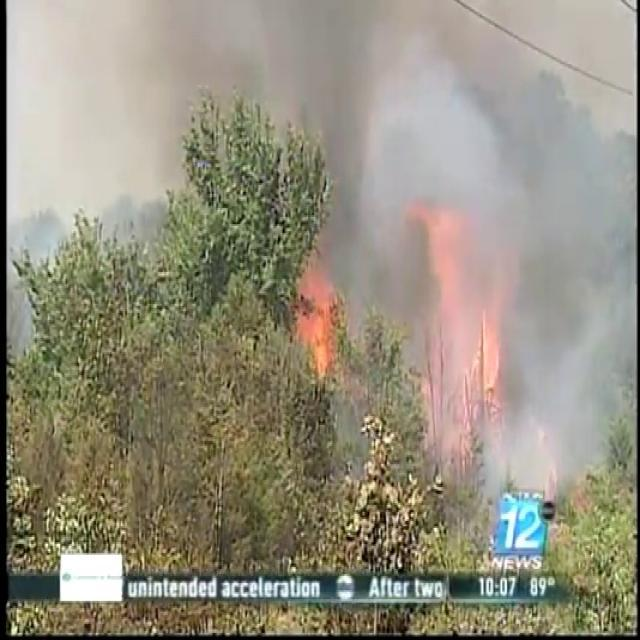Fire: (290, 261, 344, 384)
Smoke: (264, 1, 636, 534)
